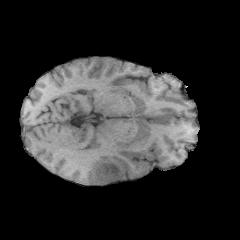glioma: (89, 150, 152, 184)
